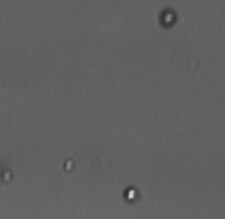Living Cell: (157, 8, 178, 29), (122, 186, 139, 202)
